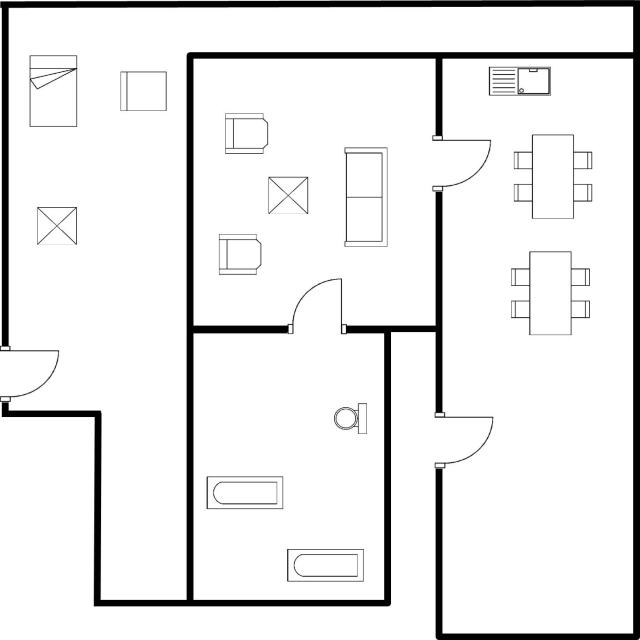armchair: (213, 228, 264, 280), (220, 108, 272, 158)
bed: (22, 51, 81, 132)
coffee_table: (32, 201, 81, 249), (264, 171, 312, 218)
dining_table: (507, 246, 596, 341), (508, 129, 596, 224)
large_sink: (329, 399, 372, 437)
large_sofa: (336, 141, 394, 252)
sink: (483, 62, 555, 101)
small_sofa: (115, 66, 169, 118)
tub: (202, 470, 295, 513), (282, 544, 369, 586)
